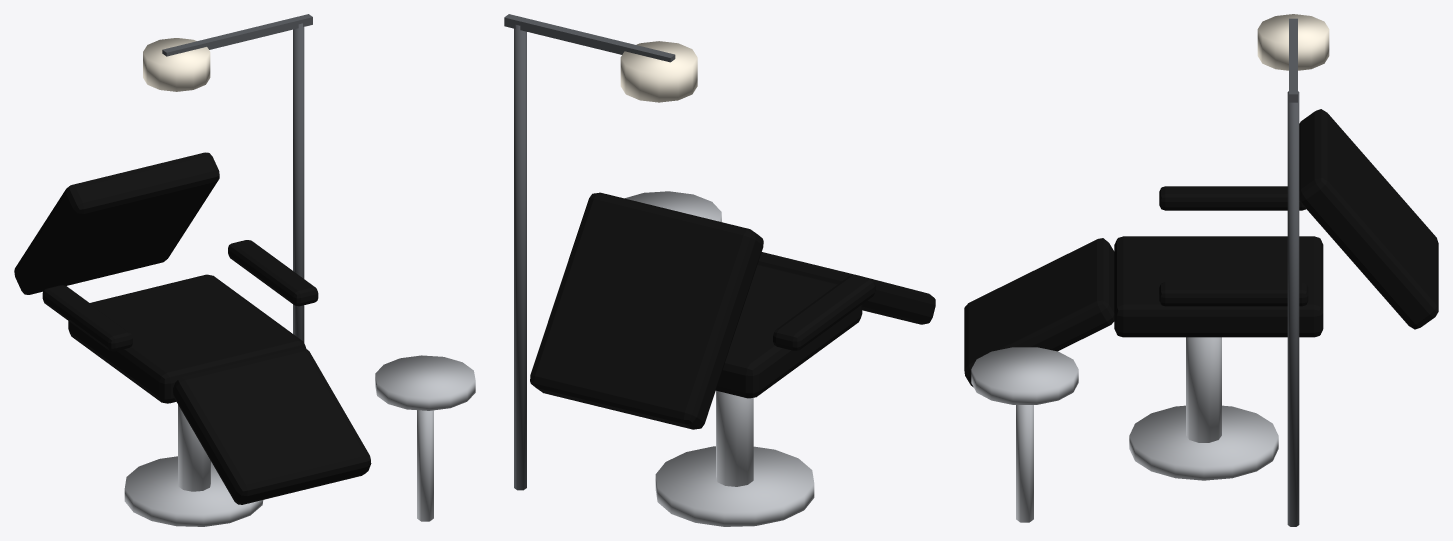
The model's file is tattoo_chair.glb.
The picture shows the model from 3 angles, left to right: view 1: azimuth 30°, elevation 25°; view 2: azimuth 150°, elevation 25°; view 3: azimuth 270°, elevation 25°; orthographic projection. The views are drawn at different scales.
Parts seen in each view (by area): view 1: tattoo_chair; view 2: tattoo_chair; view 3: tattoo_chair.
Boxes of the visible parts, x1,y1,x2,y2 form: tattoo_chair: (14,14,475,526); tattoo_chair: (504,14,935,526); tattoo_chair: (964,14,1438,526).
Bounding box in the file's own units: 1.21 × 1.62 × 1.59.
1 material, 1 textured.
